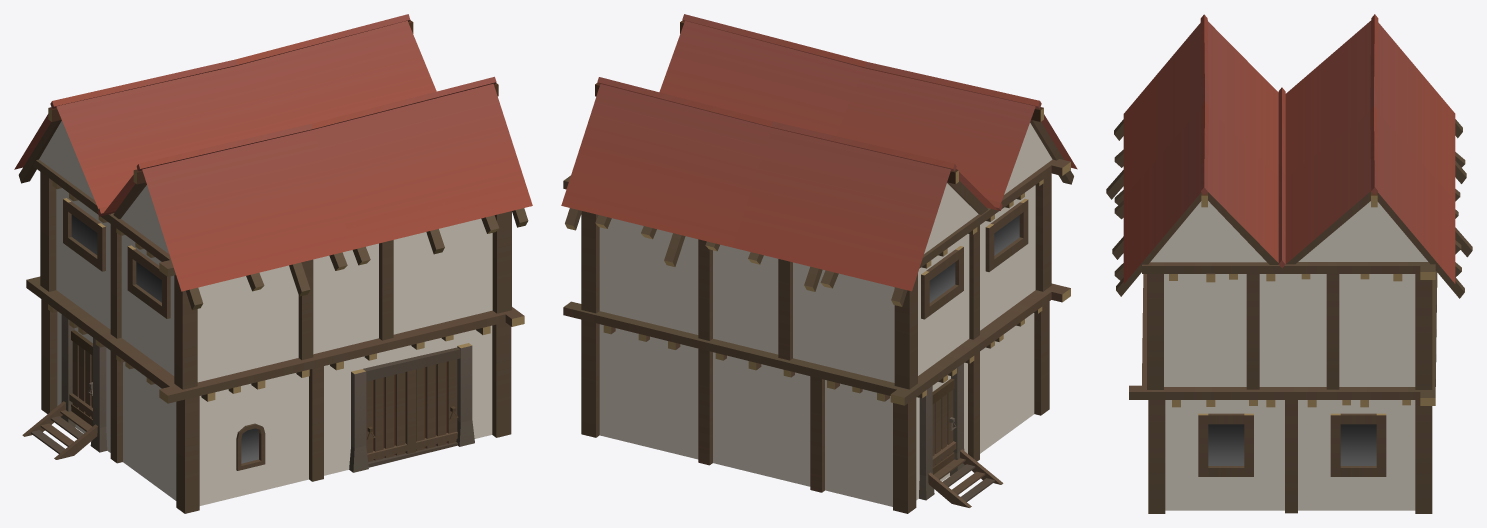
Rendered from House_11_LOD1.fbx.
3 renders of one model, left to right at view 1: azimuth 30°, elevation 25°; view 2: azimuth 150°, elevation 25°; view 3: azimuth 270°, elevation 25°, orthographic.
Parts seen in each view (by area): view 1: polySurface9620; view 2: polySurface9620; view 3: polySurface9620.
Boxes of the visible parts, box(x1,y1,x2,y2) form: polySurface9620: box(14, 14, 532, 513); polySurface9620: box(561, 14, 1077, 513); polySurface9620: box(1106, 14, 1472, 513).
Bounding box in the file's own units: 999 × 831 × 830.
